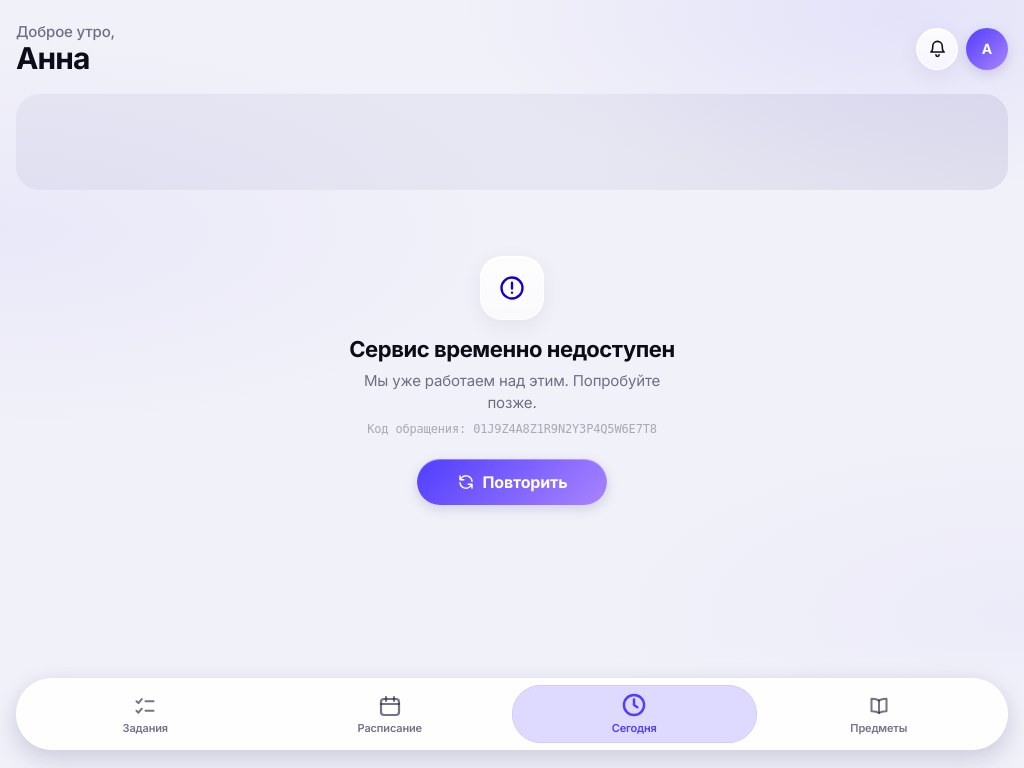
Scenario: Today › shows a retryable service error and recovers
Expected: the heading "Сервис временно недоступен" is shown, [349,336,675,362]
Step 1. Click the button "Повторить" → click(512, 482), box [417,459,607,505]
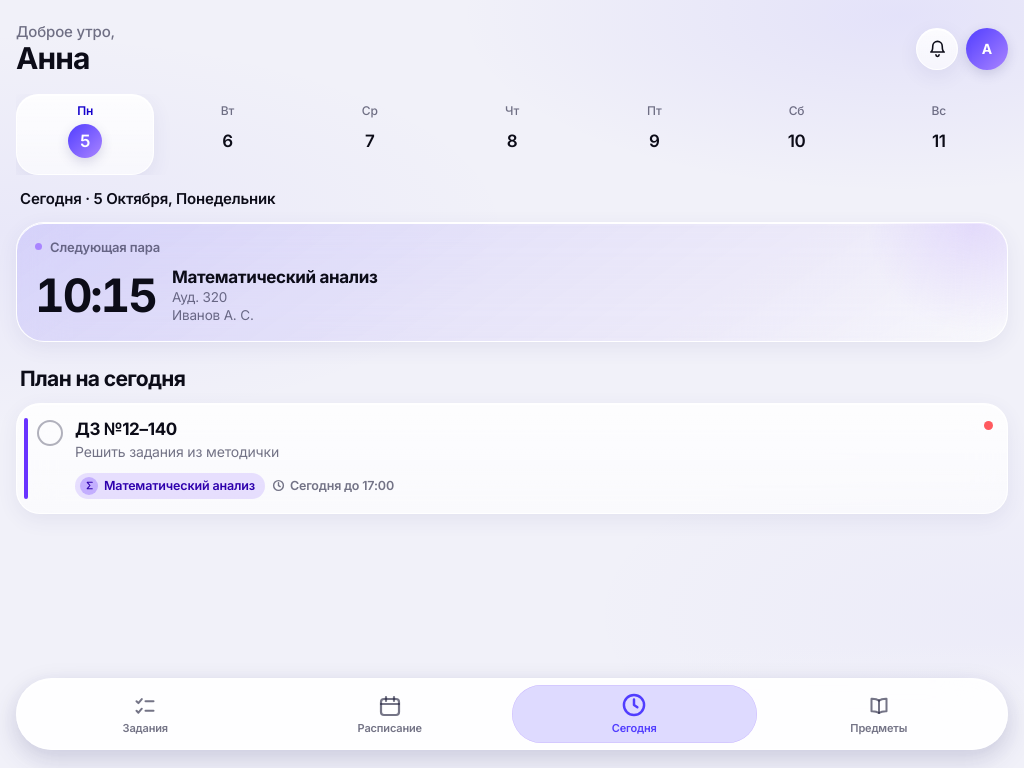
Now the text "ДЗ №12–140" is shown, box [75,418,177,438]
